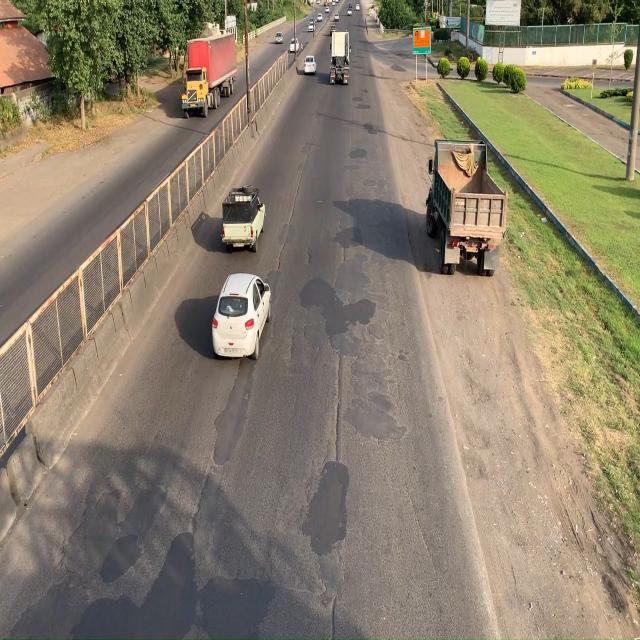Truck: (425, 134, 509, 287), (182, 33, 236, 119)
cars: (214, 273, 271, 372), (221, 185, 266, 255)
